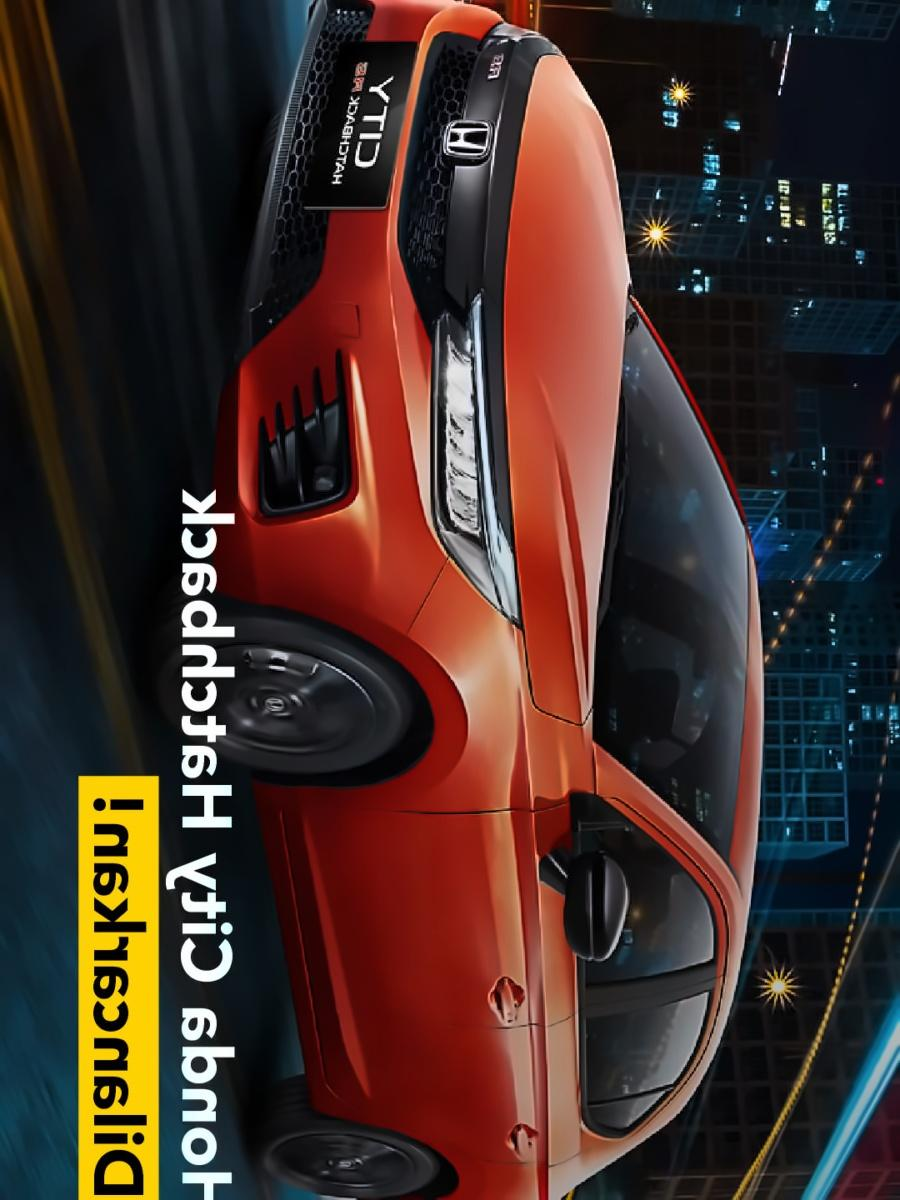Car hood: (484, 40, 633, 720)
Fender - -F-L-: (236, 546, 601, 822)
Front bumper: (202, 0, 498, 671)
Headlight - -L-: (424, 284, 521, 628)
Passenger-s door - -F-L-: (242, 782, 757, 1040)
Passenger-s door - -R-L-: (258, 940, 779, 1163)
Side bumper - -L-: (204, 800, 389, 1131)
Side mirror - -L-: (528, 816, 642, 985)
